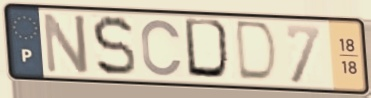7: (284, 23, 325, 86)
C: (138, 17, 186, 79)
D: (181, 16, 236, 84), (235, 18, 281, 86)
N: (41, 10, 92, 76)
S: (90, 13, 139, 79)
